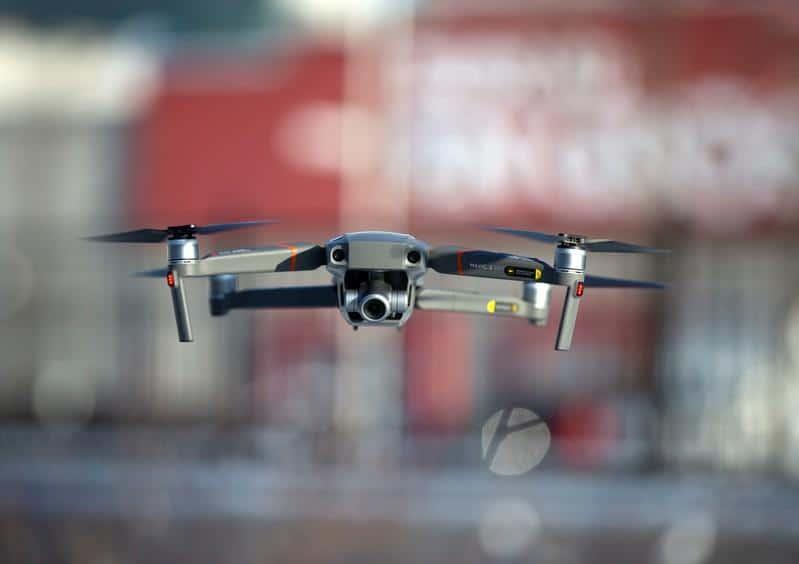drone_other: (77, 216, 680, 350)
